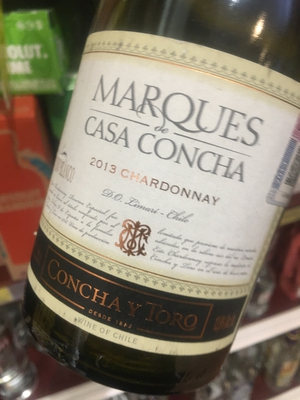marques de casa concha chardonnay: (20, 23, 300, 379)
